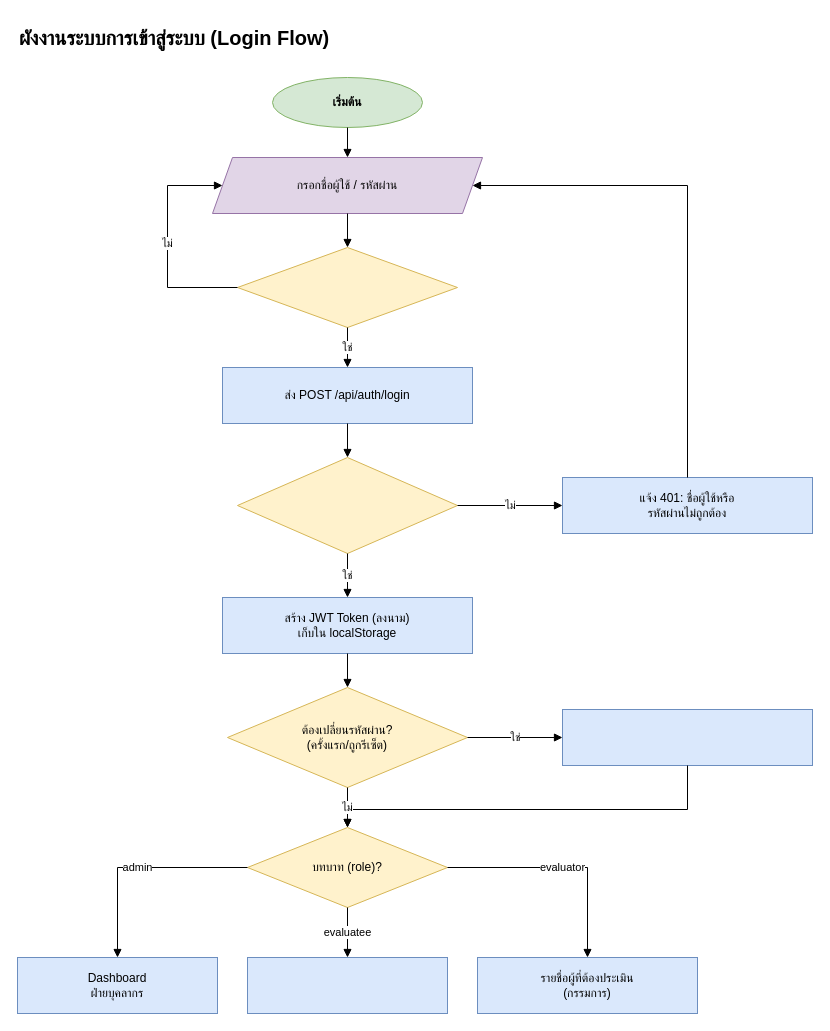
This 830x1031 diagram has some shape labels left out. The shapes that lost their labels are listed below. From the top down, each one's centre as x and y in pixels, then its label:
the point at 347,287: กรอกครบ?
the point at 347,505: ชื่อผู้ใช้และ รหัสผ่านถูกต้อง?
the point at 687,737: หน้าเปลี่ยนรหัสผ่าน PUT /api/auth/password
the point at 347,985: หน้าประเมินตนเอง
